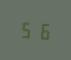five: (19, 18, 34, 39)
six: (35, 20, 50, 41)
